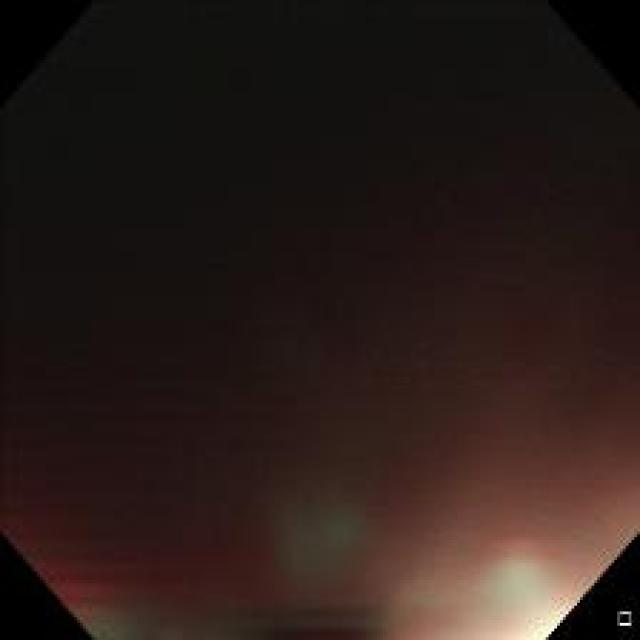color misalignment: (4, 18, 620, 624), (434, 545, 561, 626), (260, 486, 371, 571)
contrast: (5, 1, 631, 539), (184, 589, 394, 631)
